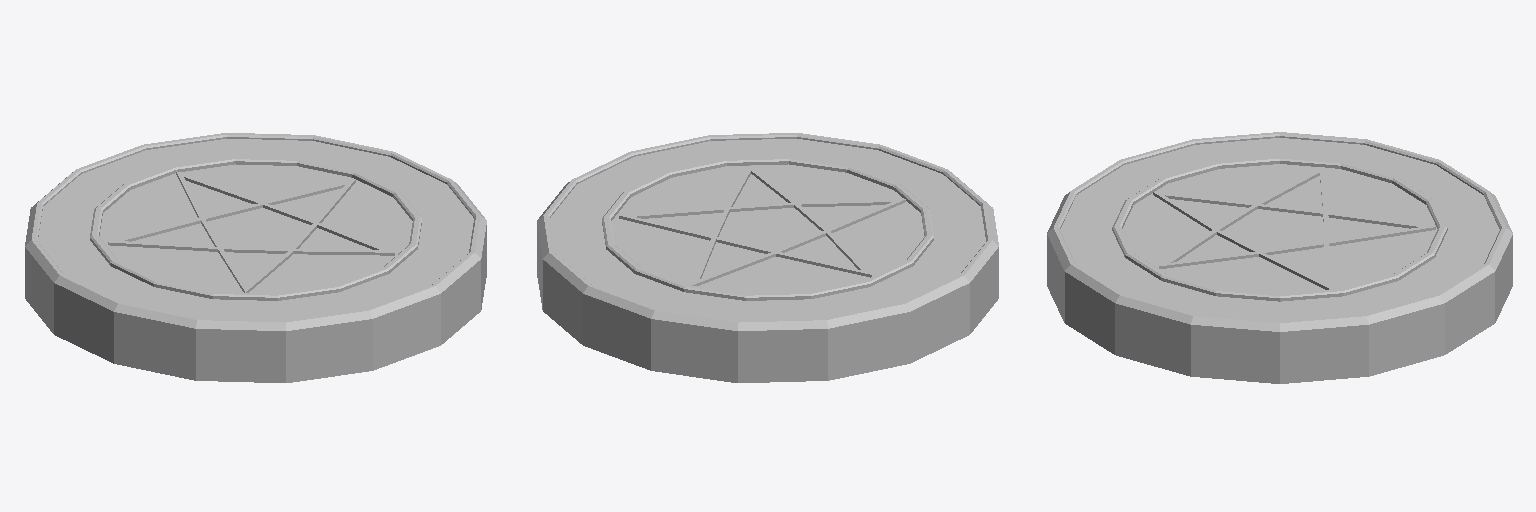
Rendered from pentagram_devil.sgm.obj.
3 renders of one model, left to right at view 1: azimuth 30°, elevation 25°; view 2: azimuth 150°, elevation 25°; view 3: azimuth 270°, elevation 25°, orthographic.
Bounding box in the file's own units: 0.8621 × 0.121 × 0.8621.